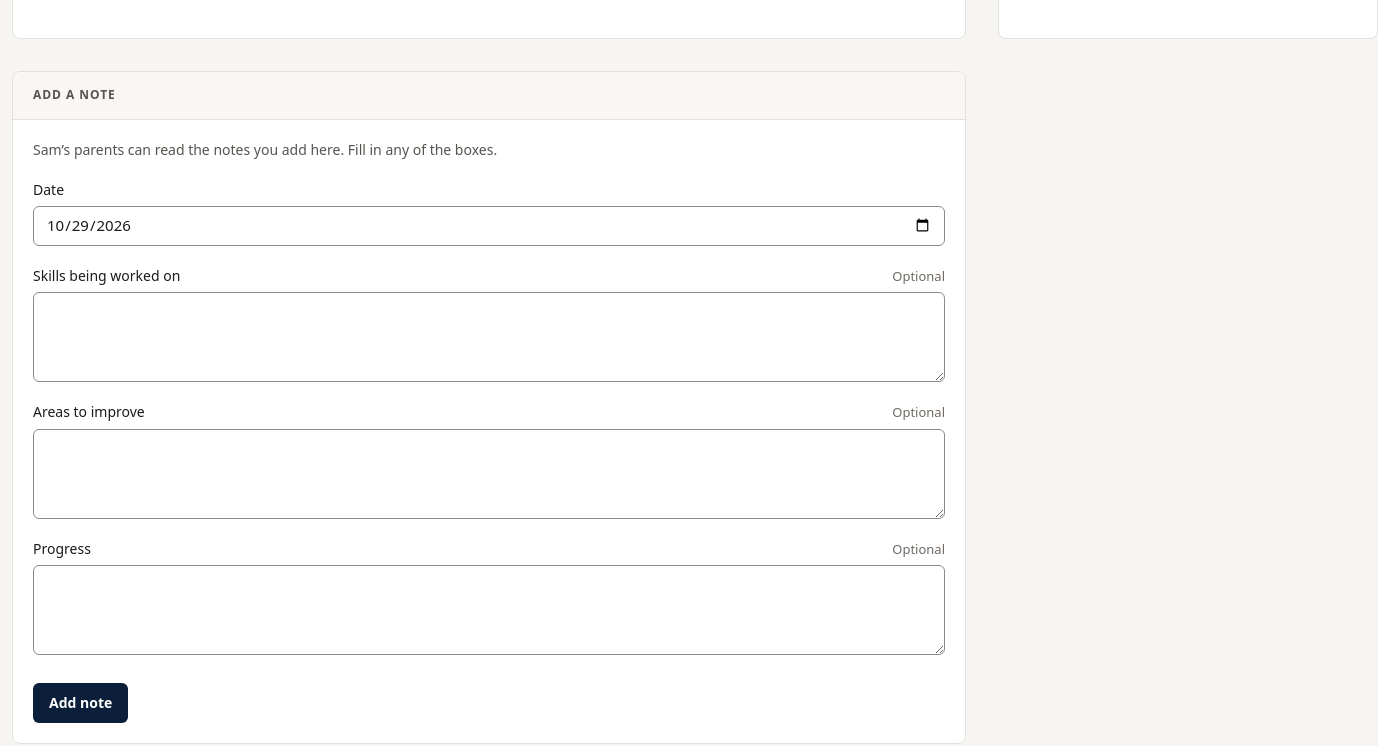
Scenario: coach attendance and notes › doesn’t send an empty note
(page scrolled)
Click the button "Add note" at (81, 703), box [33,683,128,723]
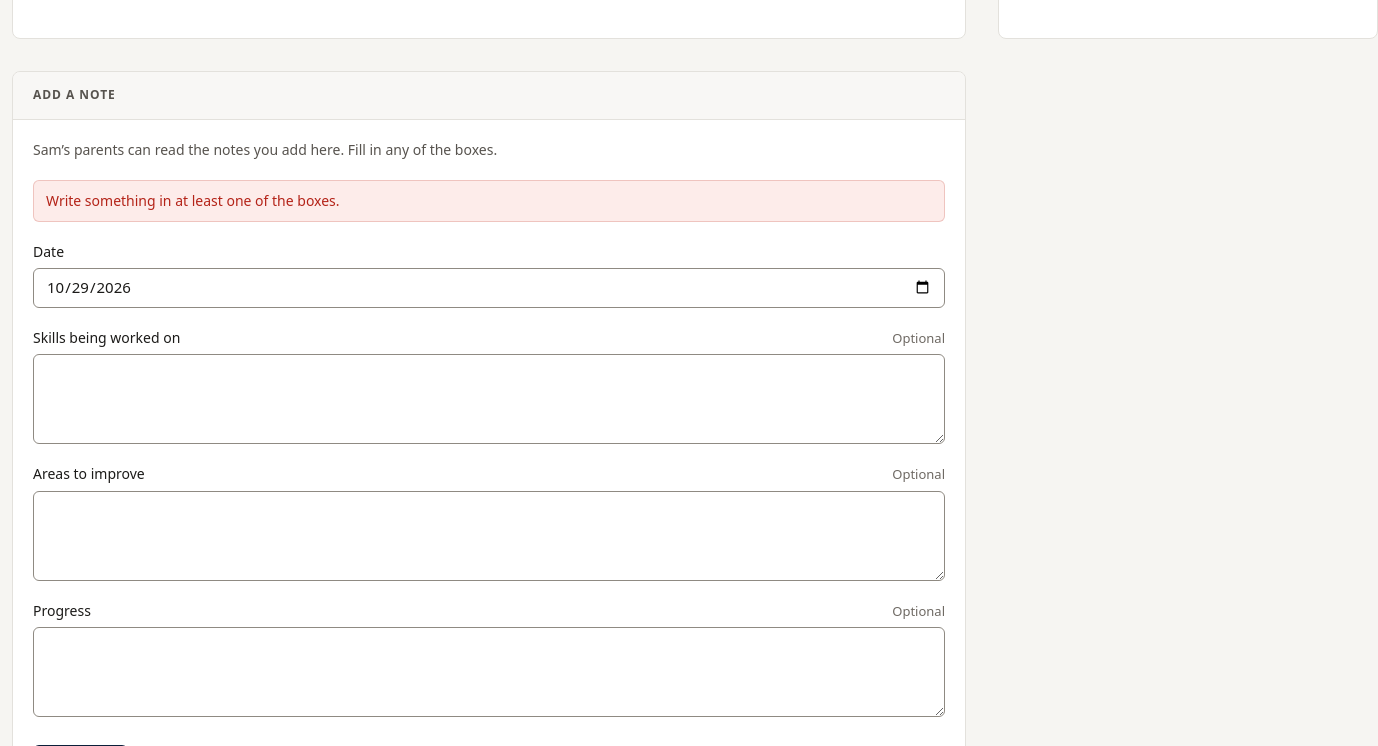
Now the message reads "Write something in at least one of the boxes.", box [46,190,340,210]
